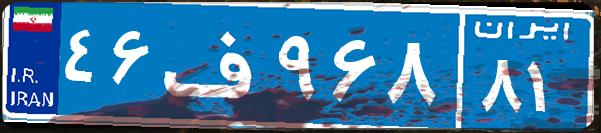1: (525, 38, 570, 115)
4: (57, 26, 110, 107)
6: (330, 28, 385, 110), (110, 28, 158, 105)
8: (385, 28, 445, 110), (475, 38, 525, 113)
9: (273, 28, 330, 110)
ف: (158, 15, 273, 115)
